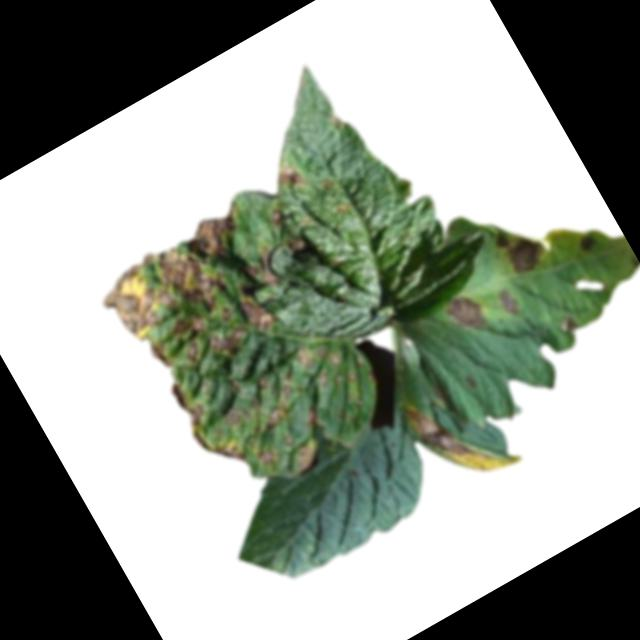Early_blight: (90, 182, 403, 518), (399, 368, 525, 504), (492, 218, 554, 280), (442, 285, 492, 338), (492, 280, 528, 320), (275, 160, 306, 192), (556, 312, 586, 341), (285, 232, 313, 259), (577, 232, 601, 257)
